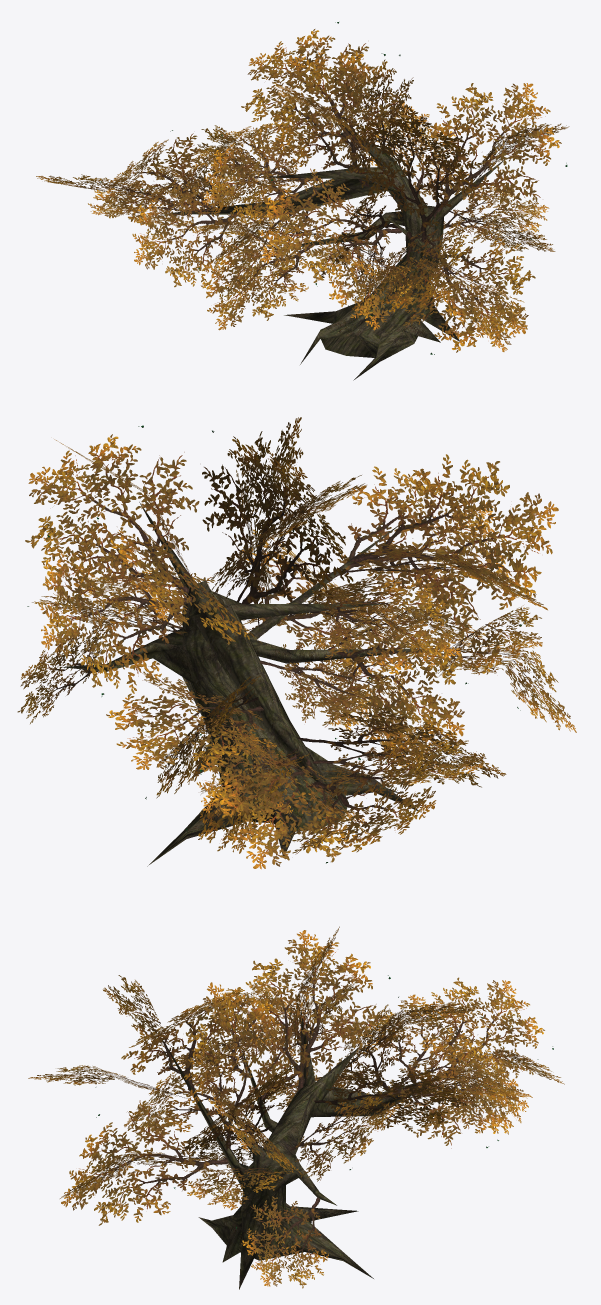
Rendered from Utility_Tree03_LOD2.FBX.
3 renders of one model, top to bottom at view 1: azimuth 30°, elevation 25°; view 2: azimuth 150°, elevation 25°; view 3: azimuth 270°, elevation 25°, orthographic. The views are drawn at different scales.
Visible parts, largest first — view 1: cmc_shu03_02_LOD2, cmc_shu03_01_LOD2; view 2: cmc_shu03_02_LOD2, cmc_shu03_01_LOD2; view 3: cmc_shu03_02_LOD2, cmc_shu03_01_LOD2.
Boxes of the visible parts, box(x1,y1,x2,y2) form: cmc_shu03_02_LOD2: box(36, 22, 569, 354); cmc_shu03_01_LOD2: box(161, 123, 507, 380); cmc_shu03_02_LOD2: box(17, 417, 576, 869); cmc_shu03_01_LOD2: box(61, 502, 451, 866); cmc_shu03_02_LOD2: box(28, 926, 564, 1288); cmc_shu03_01_LOD2: box(162, 1010, 438, 1289).
Size of the model in its own units: 2225 by 1546 by 2433.
Materials: 2 (2 with a texture image).
